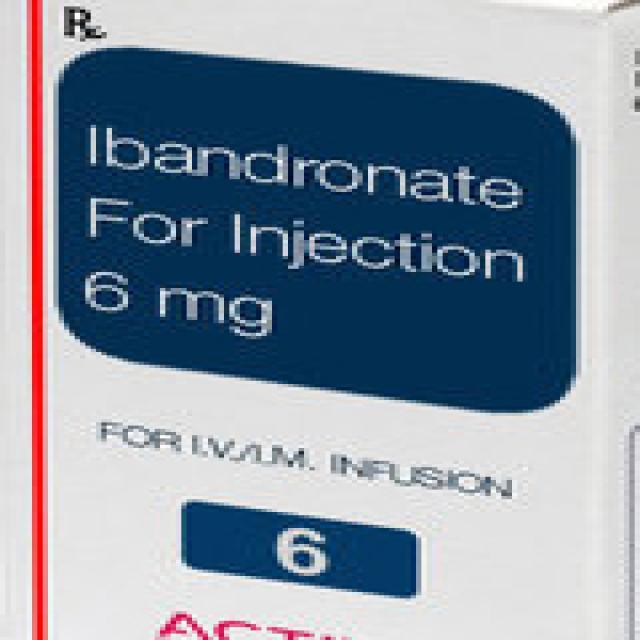drug-name: (79, 118, 536, 222)
